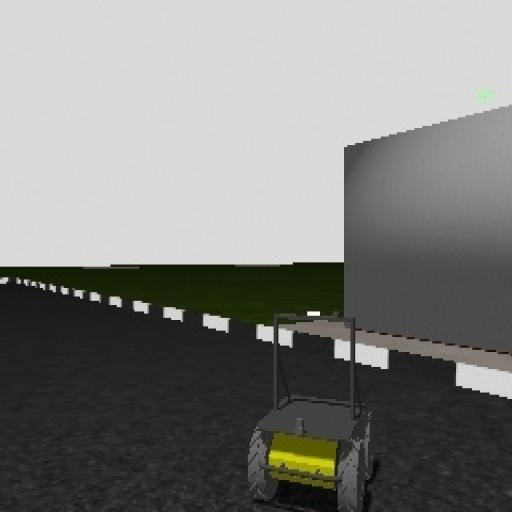huskya200: (237, 292, 380, 512)
